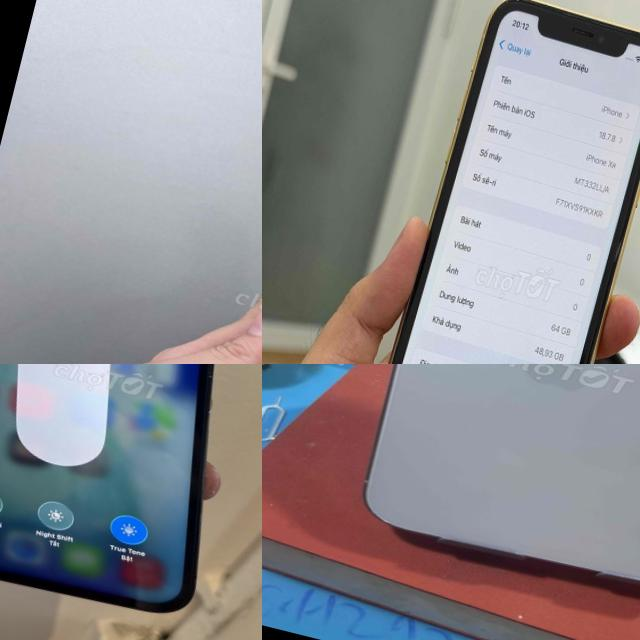gen_12_13: (0, 364, 262, 629)
gen_14: (353, 364, 640, 605)
gen_x_xs: (389, 0, 640, 364)
scratch: (184, 183, 262, 364), (501, 0, 512, 8)
